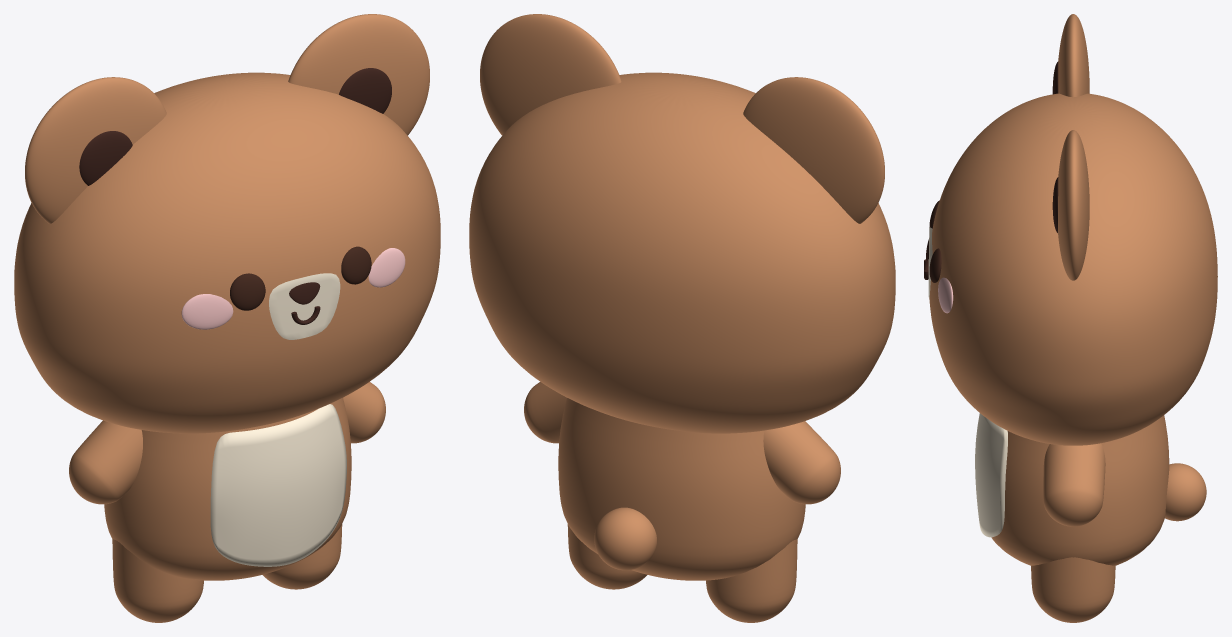
The model's file is NarratorBear.fbx.
3 views of the same model, side by side, from view 1: azimuth 30°, elevation 25°; view 2: azimuth 150°, elevation 25°; view 3: azimuth 270°, elevation 25° (orthographic). The views are drawn at different scales.
Parts seen in each view (by area): view 1: ras, wedhnen 1, kerch 2, bdan, iden, sa9in, wedhnen 2, ras 2, 5doud, 3enin; view 2: ras, bdan, wedhnen 1, iden, sa9in, ba3bous; view 3: ras, bdan, wedhnen 1, iden, sa9in, kerch 2, ba3bous, 3enin, 5doud, wedhnen 2.
Boxes of the visible parts, x1,y1,x2,y2 form: ras: (14, 72, 440, 433); wedhnen 1: (25, 14, 429, 223); kerch 2: (210, 404, 346, 566); bdan: (104, 398, 351, 580); iden: (69, 381, 385, 504); sa9in: (112, 524, 342, 622); wedhnen 2: (79, 68, 391, 185); ras 2: (269, 273, 340, 339); 5doud: (181, 248, 405, 329); 3enin: (230, 246, 371, 310); ras: (469, 72, 895, 433); bdan: (558, 398, 805, 580); wedhnen 1: (480, 14, 884, 223); iden: (524, 382, 840, 504); sa9in: (567, 524, 797, 622); ba3bous: (594, 507, 656, 570); ras: (929, 93, 1217, 445); bdan: (991, 415, 1169, 565); wedhnen 1: (1058, 14, 1089, 280); iden: (1043, 443, 1105, 526); sa9in: (1031, 557, 1115, 622); kerch 2: (975, 413, 1007, 537); ba3bous: (1165, 463, 1206, 521); 3enin: (929, 200, 941, 282); 5doud: (938, 277, 953, 313); wedhnen 2: (1052, 61, 1058, 232).
Bounding box in the file's own units: 469 × 614 × 321.
